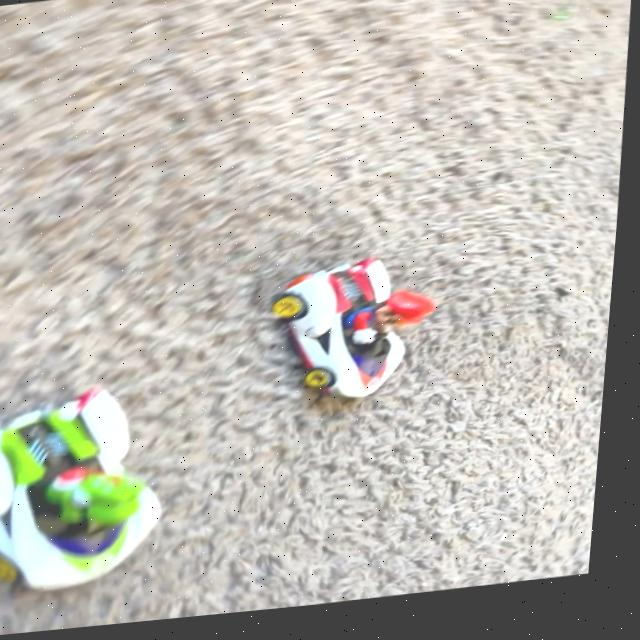mario: (251, 242, 450, 433)
yoshi: (0, 350, 203, 621)
